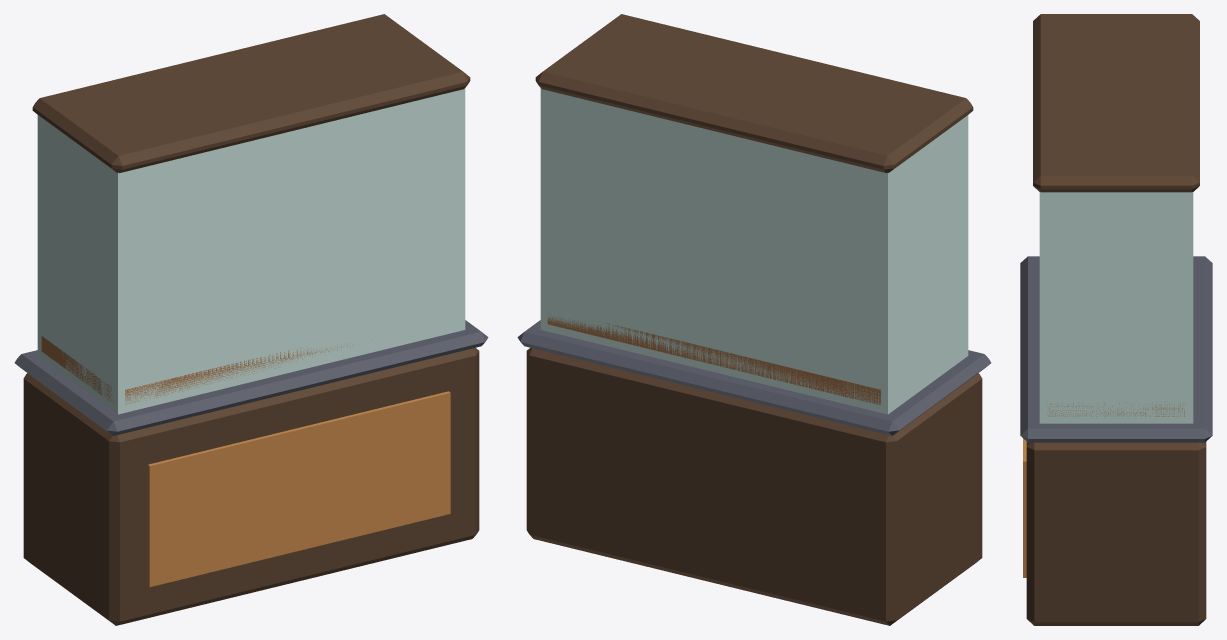
File: CatCafe_Decor_FishTank.glb
3 views of the same model, side by side, from view 1: azimuth 30°, elevation 25°; view 2: azimuth 150°, elevation 25°; view 3: azimuth 270°, elevation 25° (orthographic). The views are drawn at different scales.
Parts seen in each view (by area): view 1: CatCafe_Decor_FishTank_Stand, CatCafe_Decor_FishTank_Glass; view 2: CatCafe_Decor_FishTank_Stand, CatCafe_Decor_FishTank_Glass; view 3: CatCafe_Decor_FishTank_Stand, CatCafe_Decor_FishTank_Glass.
Boxes of the visible parts, box(x1,y1,x2,y2) form: CatCafe_Decor_FishTank_Stand: box(14, 14, 488, 625); CatCafe_Decor_FishTank_Glass: box(37, 88, 465, 414); CatCafe_Decor_FishTank_Stand: box(517, 14, 991, 625); CatCafe_Decor_FishTank_Glass: box(540, 88, 968, 414); CatCafe_Decor_FishTank_Stand: box(1020, 14, 1212, 625); CatCafe_Decor_FishTank_Glass: box(1039, 192, 1193, 423).
Bounding box in the file's own units: 3.3 × 3.85 × 1.5.
Materials: 1 (1 with a texture image).
